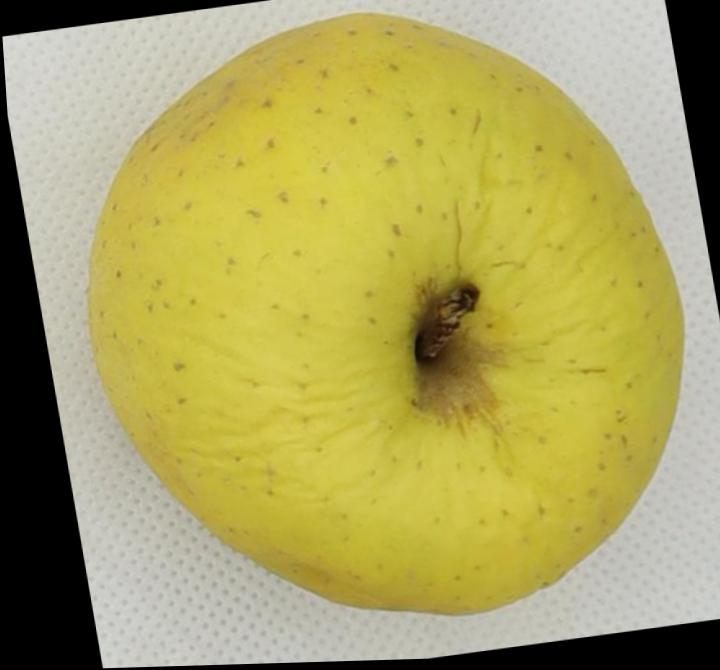apple: (90, 13, 683, 614)
bruise_discoloration: (418, 329, 502, 429)
